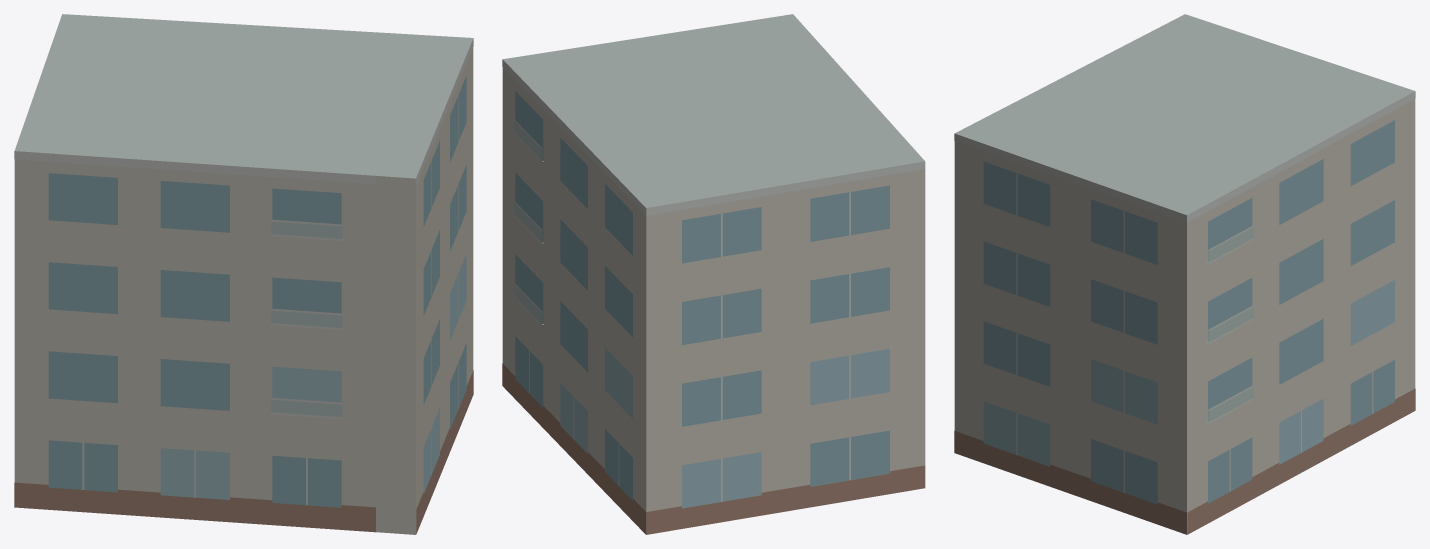
Rendered from survey-upis-32676594.glb.
3 views of the same model, side by side, from view 1: azimuth 30°, elevation 25°; view 2: azimuth 150°, elevation 25°; view 3: azimuth 270°, elevation 25° (orthographic). The views are drawn at different scales.
Visible parts, largest first — view 1: survey-upis-32676594.tmp; view 2: survey-upis-32676594.tmp; view 3: survey-upis-32676594.tmp.
Boxes of the visible parts, x1,y1,x2,y2 form: survey-upis-32676594.tmp: (14, 14, 473, 534); survey-upis-32676594.tmp: (502, 14, 925, 534); survey-upis-32676594.tmp: (954, 14, 1415, 534).
Size of the model in its own units: 14.19 by 10.5 by 13.73.
